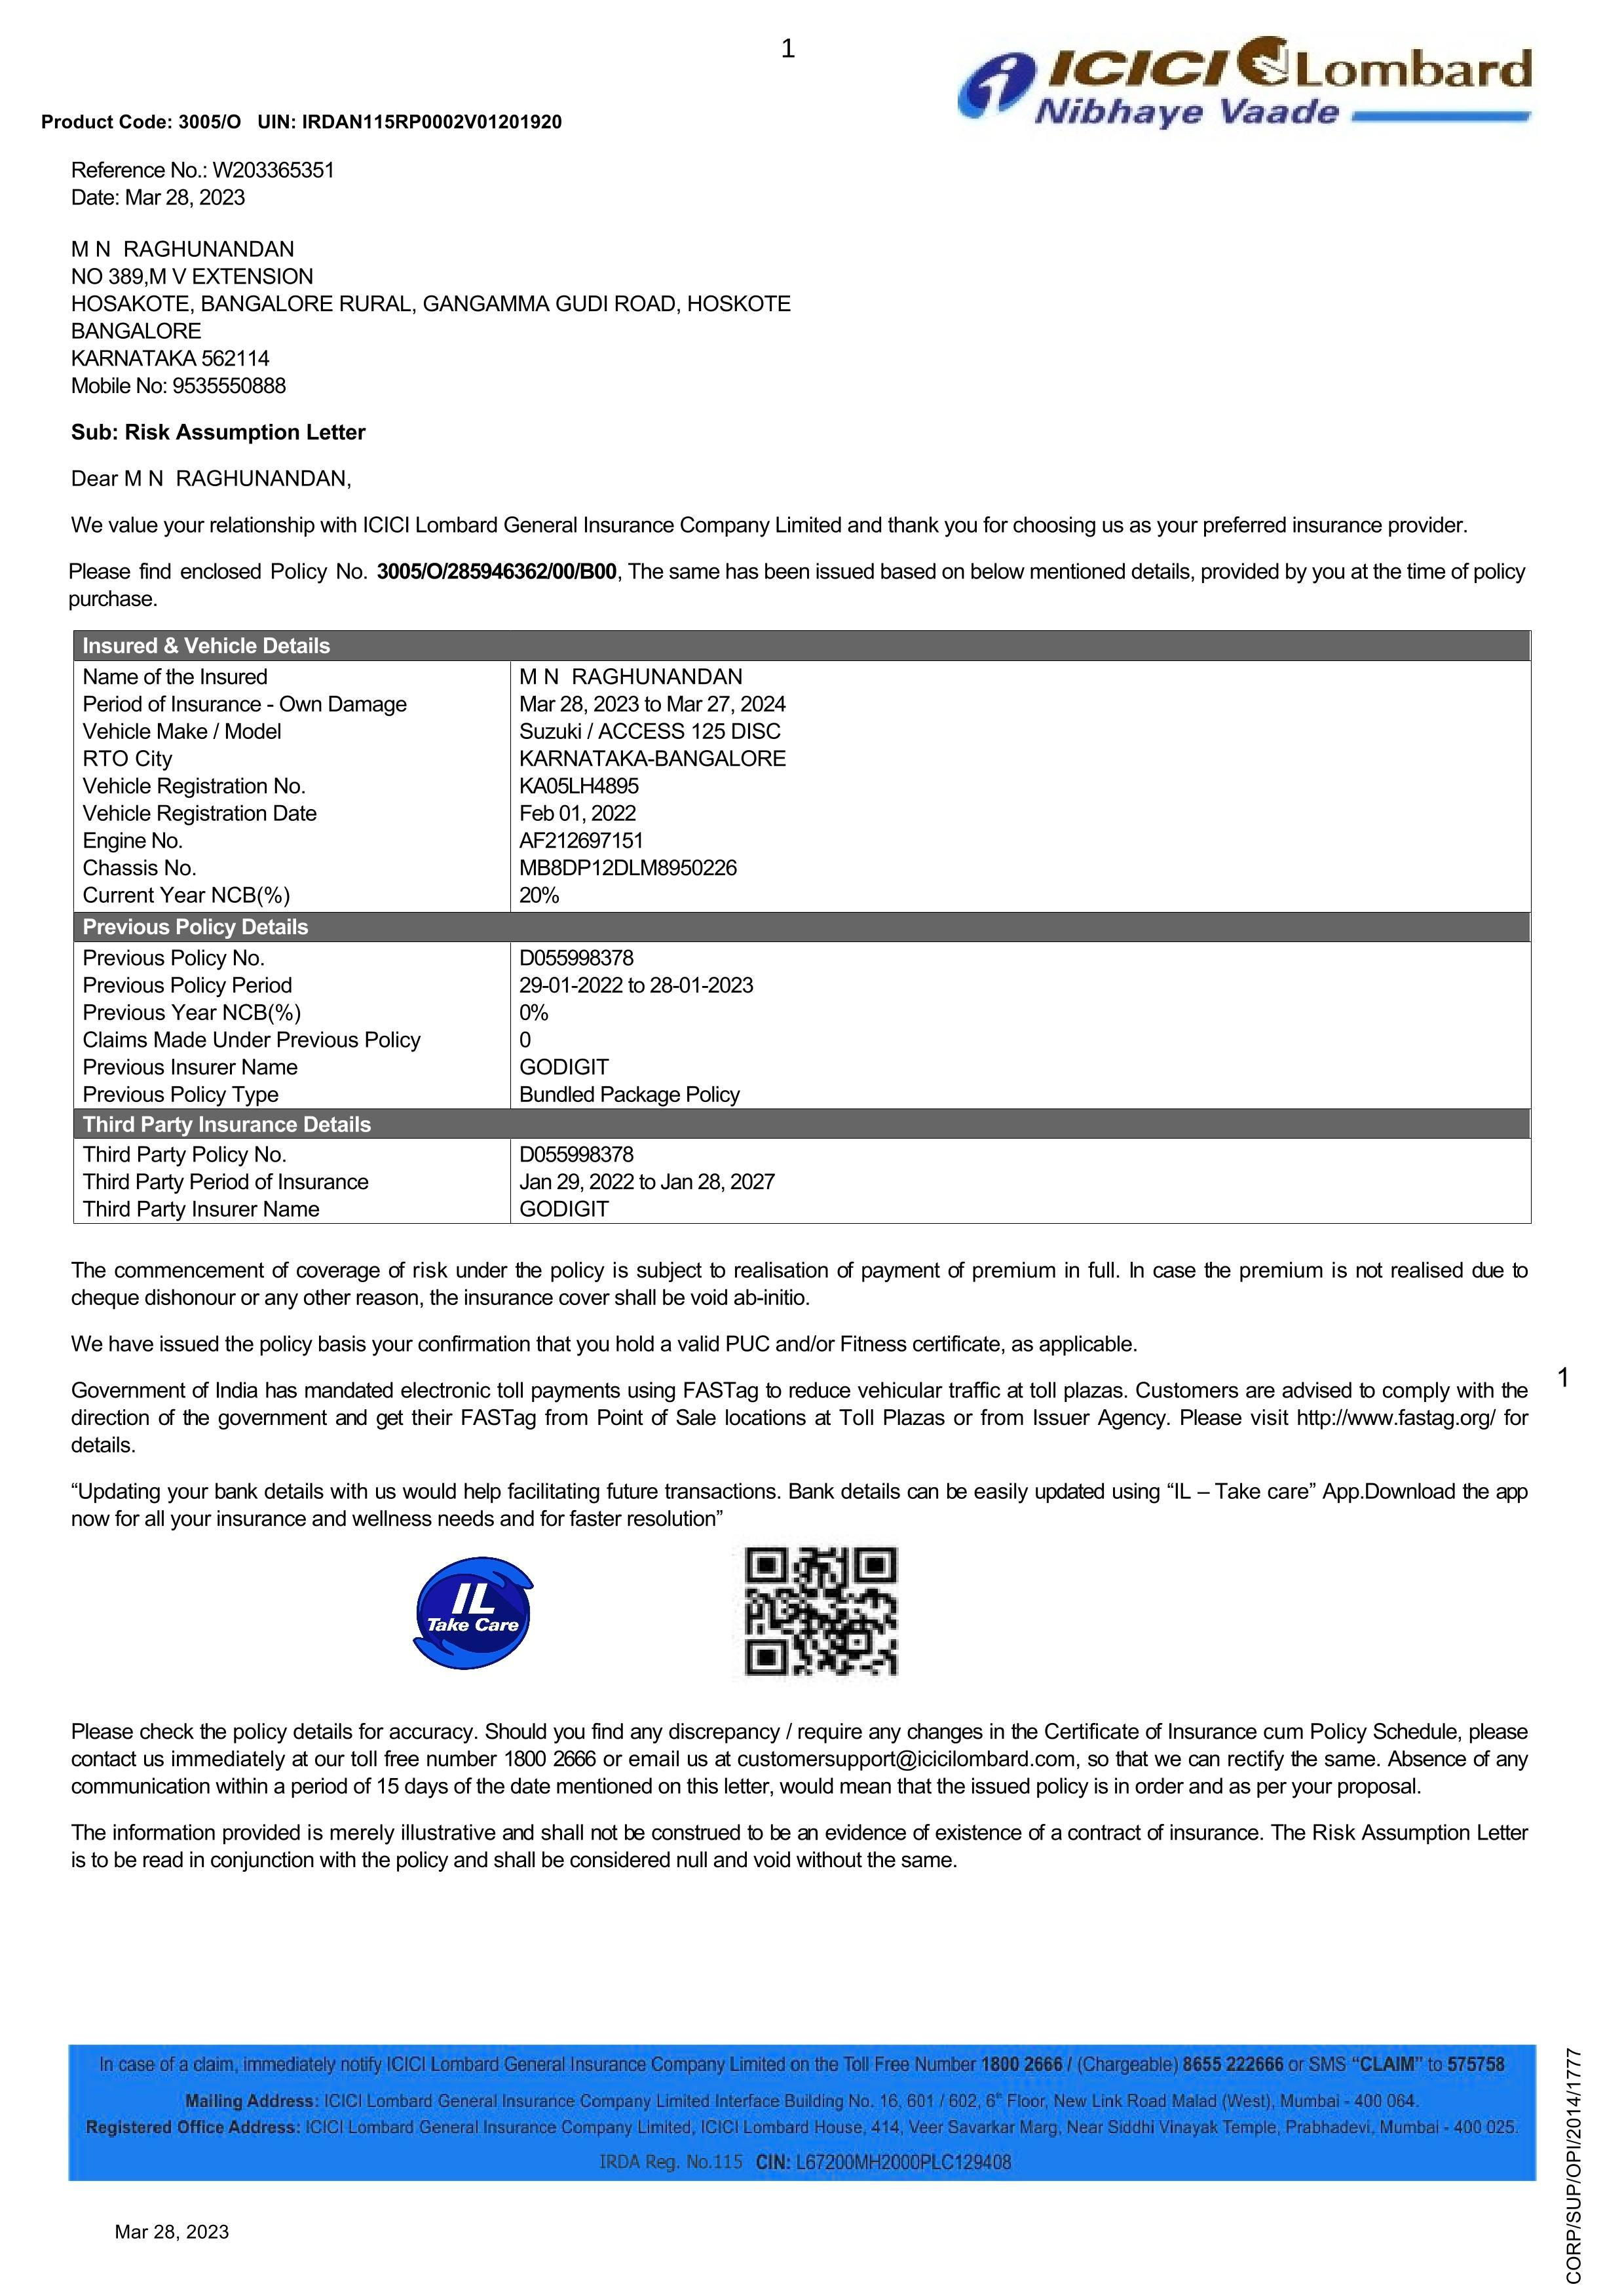InvoiceDate: (120, 184, 253, 213)
InvoiceNumber: (206, 155, 343, 183)
